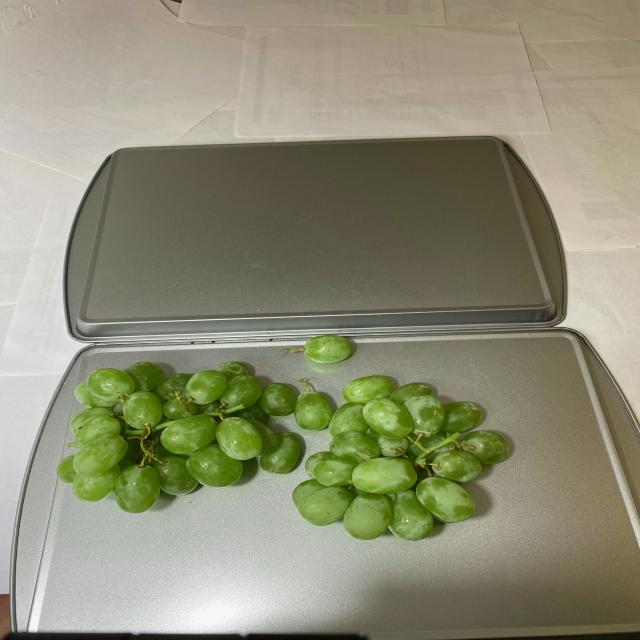grapes: (59, 339, 514, 546)
